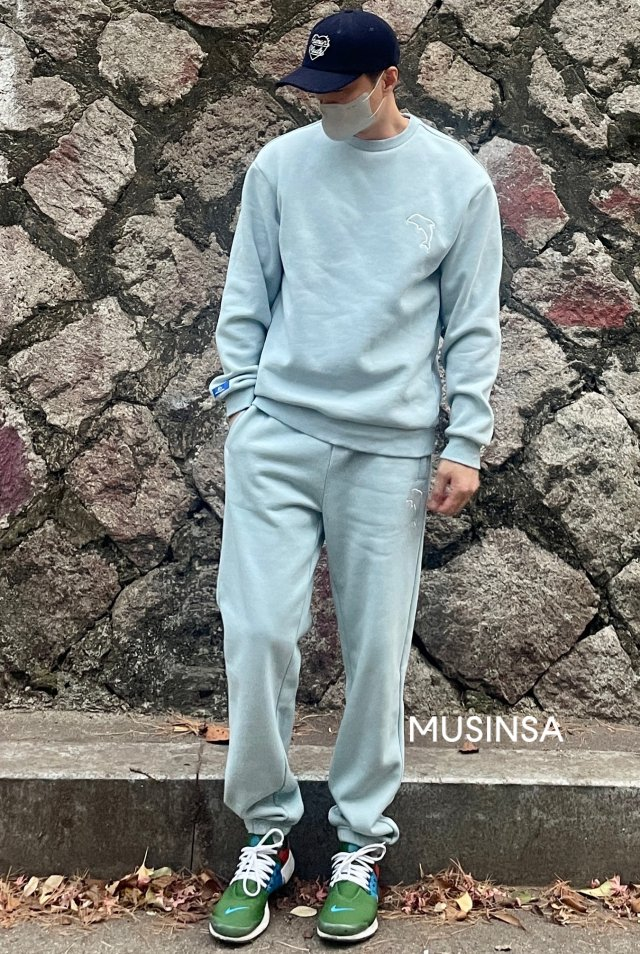Cap: (277, 6, 418, 94)
Mask: (309, 97, 392, 141)
Shoes: (194, 823, 406, 944)
Sweatshirt: (200, 108, 501, 469)
Training pants: (208, 400, 445, 852)
